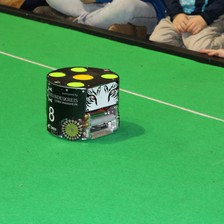robot: (43, 64, 126, 145)
